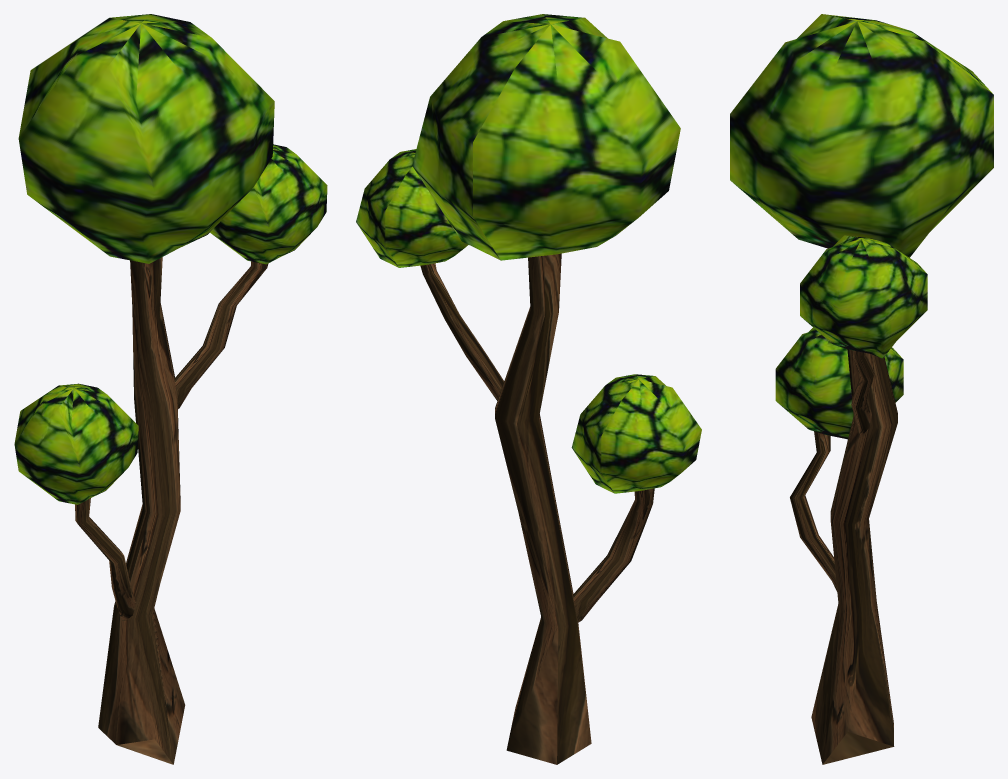
Rendered from tree2.FBX.
3 views of the same model, side by side, from view 1: azimuth 30°, elevation 25°; view 2: azimuth 150°, elevation 25°; view 3: azimuth 270°, elevation 25° (orthographic).
Parts seen in each view (by area): view 1: Cylinder001; view 2: Cylinder001; view 3: Cylinder001.
Part boxes in pixels (x1,y1,x2,y2): Cylinder001: [14, 14, 327, 764]; Cylinder001: [356, 14, 701, 764]; Cylinder001: [730, 14, 993, 764].
Size of the model in its own units: 131 by 299 by 97.03.
